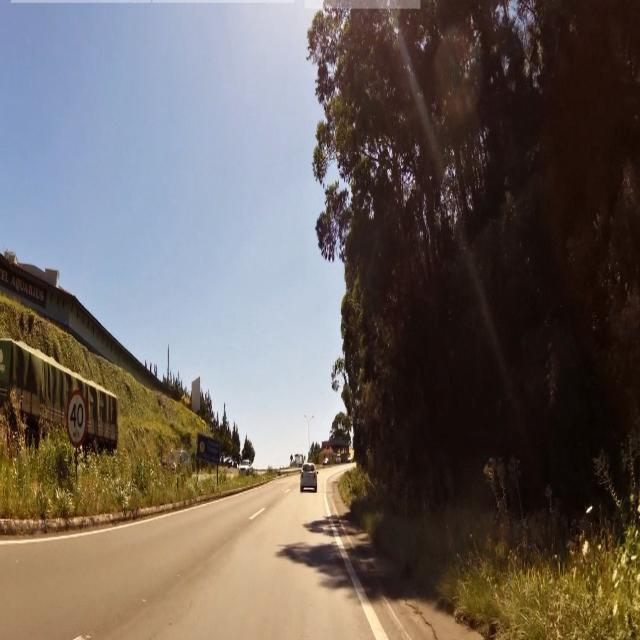R-19: (65, 389, 88, 449)
